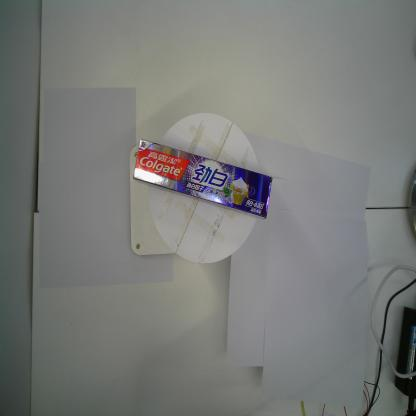Personal Hygiene: (132, 137, 273, 221)
